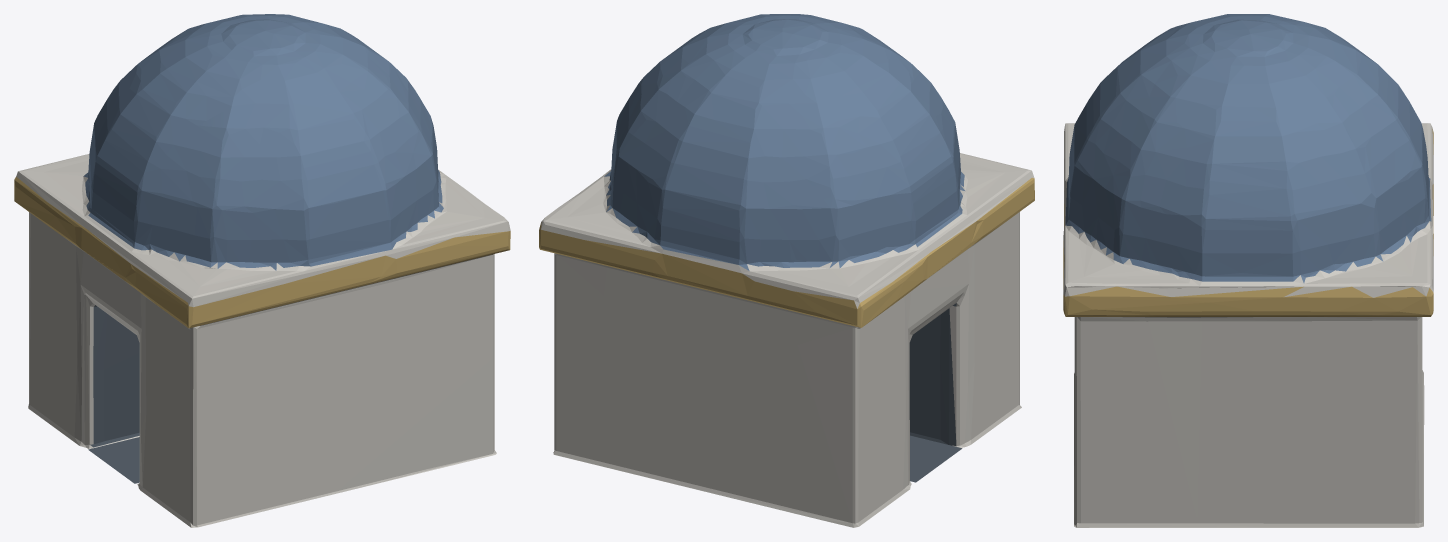
3 views of the same model, side by side, from view 1: azimuth 30°, elevation 25°; view 2: azimuth 150°, elevation 25°; view 3: azimuth 270°, elevation 25° (orthographic). The views are drawn at different scales.
Visible parts, largest first — view 1: geometry_0; view 2: geometry_0; view 3: geometry_0.
Boxes of the visible parts, left/top/right/bottom form: geometry_0: left=14, top=14, right=510, bottom=527; geometry_0: left=539, top=14, right=1034, bottom=527; geometry_0: left=1063, top=14, right=1433, bottom=527.
Bounding box in the file's own units: 0.7642 × 0.8961 × 0.7207.
